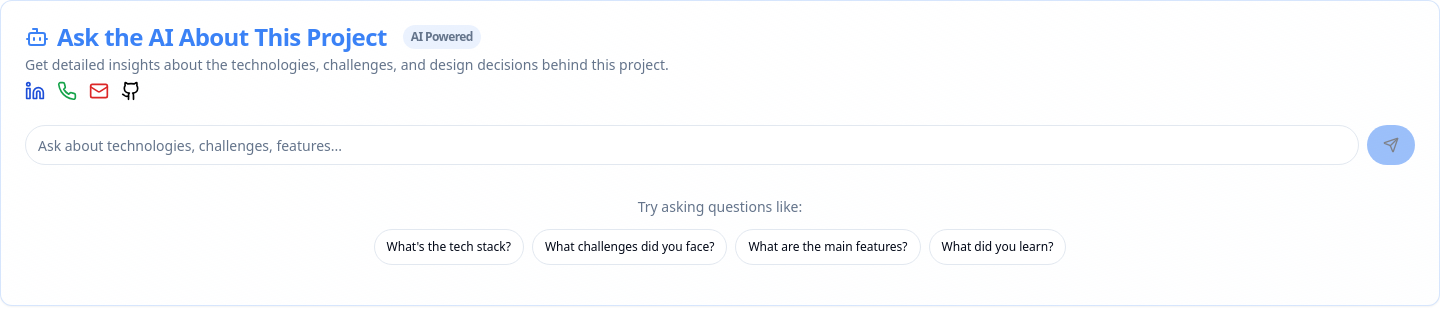
it: AIProjectChat Component › allows sending messages
This screenshot has width=1440, height=323.
Type "Test message" into the field with placeholder "Ask about technologies, challenges, features..." at (692, 145), box [25, 125, 1359, 165]
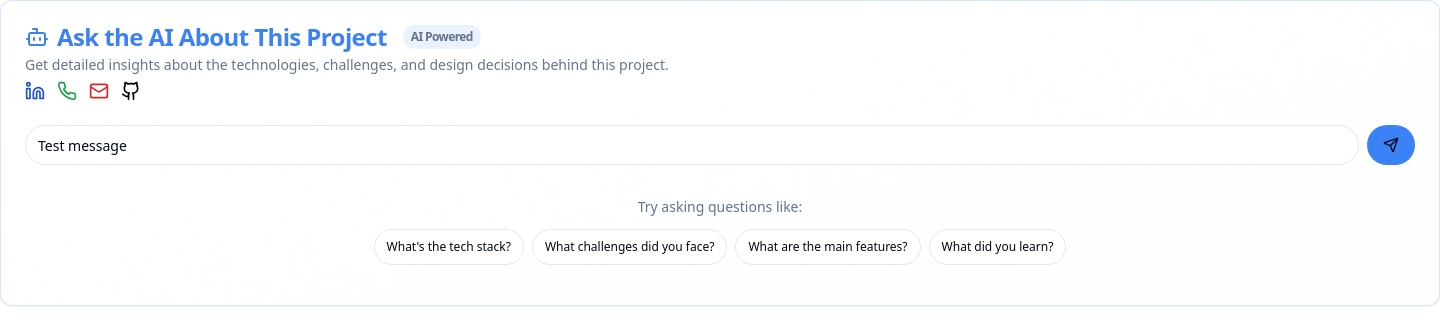
Click the button named "send" at (1391, 145), box [1367, 125, 1415, 165]
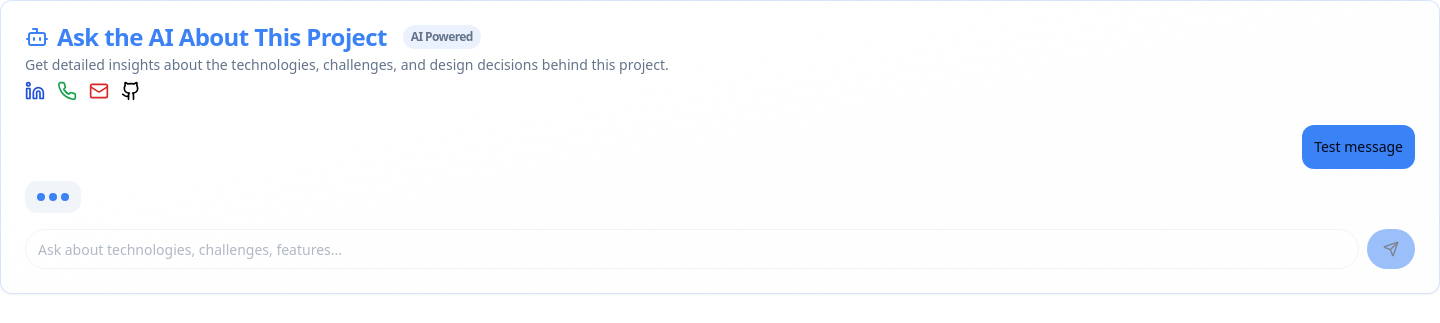
Result: the text "Test message" is shown at [1314, 137, 1403, 157]
